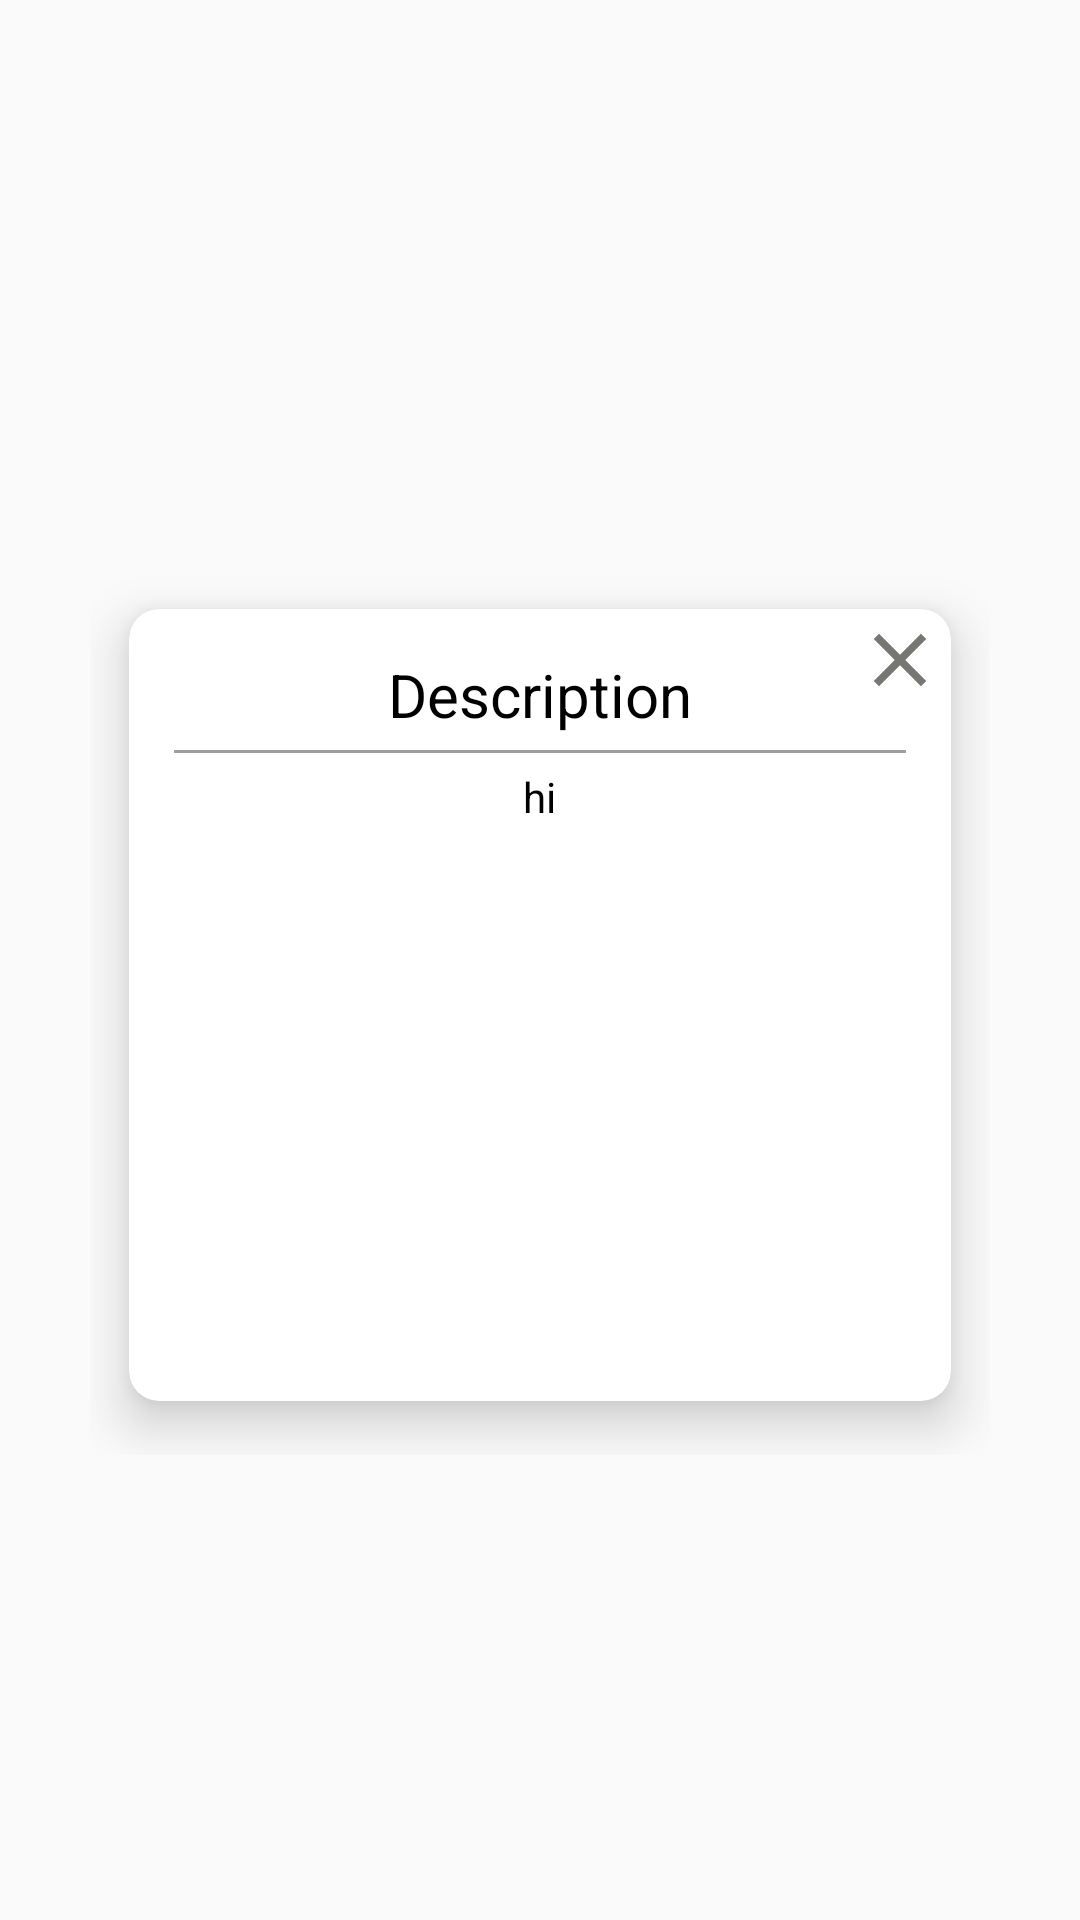

Screen size 1080x1920. Icon name, then its box in pixels as (x1, y1, x2, y2):
close: (874, 634, 926, 686)
